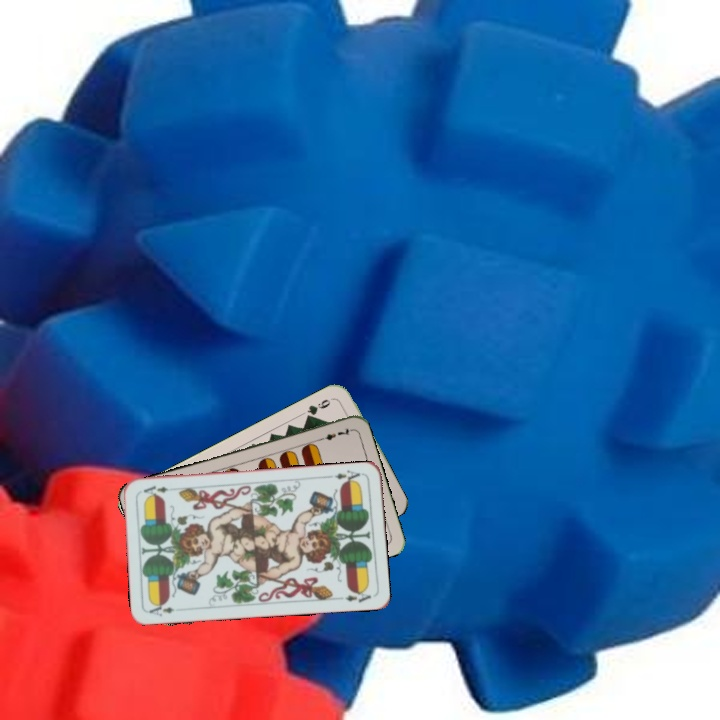E7: (314, 424, 354, 444)
EA: (325, 466, 365, 486), (145, 599, 177, 619)
G9: (302, 393, 337, 422)
